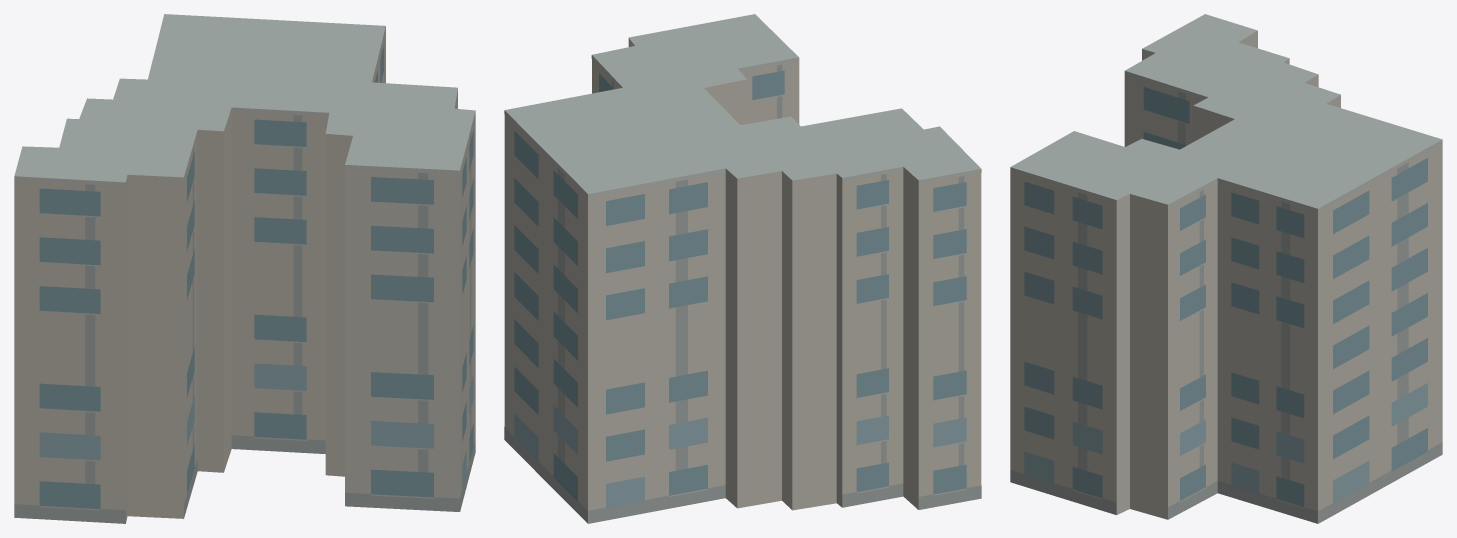
The model's file is survey-upis-32673534.glb.
3 views of the same model, side by side, from view 1: azimuth 30°, elevation 25°; view 2: azimuth 150°, elevation 25°; view 3: azimuth 270°, elevation 25° (orthographic). The views are drawn at different scales.
Parts seen in each view (by area): view 1: survey-upis-32673534.tmp; view 2: survey-upis-32673534.tmp; view 3: survey-upis-32673534.tmp.
Boxes of the visible parts, x1,y1,x2,y2 form: survey-upis-32673534.tmp: [14, 14, 475, 523]; survey-upis-32673534.tmp: [504, 14, 981, 523]; survey-upis-32673534.tmp: [1010, 14, 1442, 523].
Bounding box in the file's own units: 26.2 × 19.75 × 24.58.
